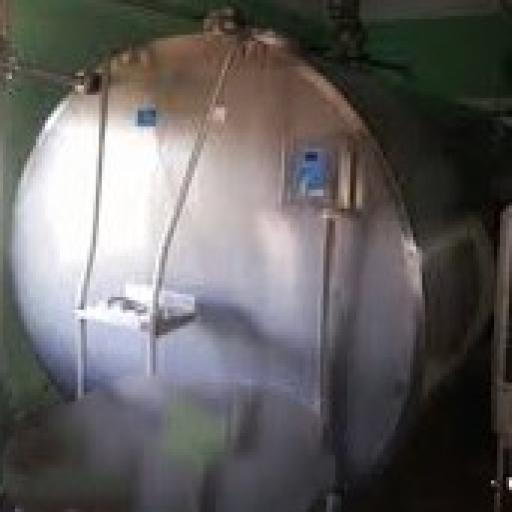silo: (13, 13, 509, 500)
